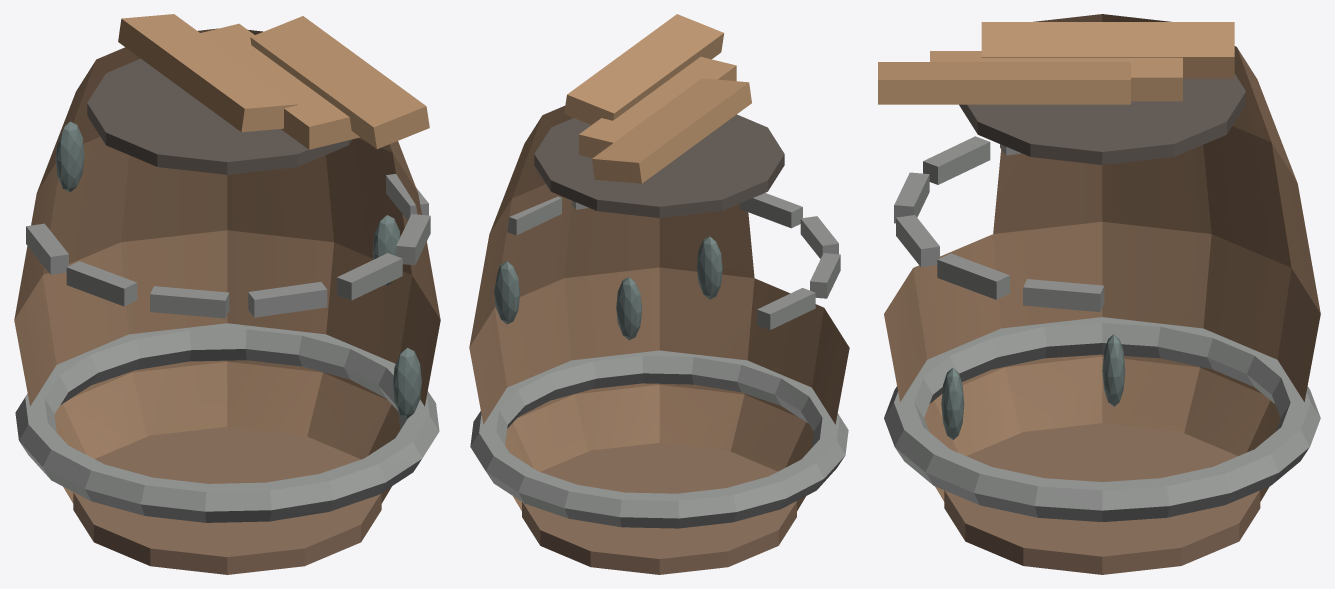
Rendered from barrel_damaged.glb.
3 views of the same model, side by side, from view 1: azimuth 30°, elevation 25°; view 2: azimuth 150°, elevation 25°; view 3: azimuth 270°, elevation 25° (orthographic). The views are drawn at different scales.
Visible parts, largest first — view 1: Barrel_Stave_Body, Iron_Hoop_0, Barrel_Bottom, Dark_Open_Barrel, Loose_Board_2, Loose_Board_0, Loose_Board_1, Broken_Hoop_Segment_3, Broken_Hoop_Segment_4, Broken_Hoop_Segment_5, Broken_Hoop_Segment_2, Water_Damage_2 (+5 smaller); view 2: Barrel_Stave_Body, Iron_Hoop_0, Barrel_Bottom, Dark_Open_Barrel, Loose_Board_0, Loose_Board_2, Loose_Board_1, Broken_Hoop_Segment_6, Broken_Hoop_Segment_3, Water_Damage_2, Water_Damage_1, Water_Damage_0 (+3 smaller); view 3: Barrel_Stave_Body, Iron_Hoop_0, Barrel_Bottom, Dark_Open_Barrel, Loose_Board_2, Loose_Board_0, Loose_Board_1, Broken_Hoop_Segment_0, Broken_Hoop_Segment_1, Broken_Hoop_Segment_4, Broken_Hoop_Segment_2, Water_Damage_2 (+2 smaller).
Boxes of the visible parts, x1,y1,x2,y2 form: Barrel_Stave_Body: (14,28,440,503); Iron_Hoop_0: (15,323,439,522); Barrel_Bottom: (73,426,381,574); Dark_Open_Barrel: (87,58,352,174); Loose_Board_2: (250,16,429,148); Loose_Board_0: (118,14,297,132); Loose_Board_1: (200,23,359,149); Broken_Hoop_Segment_3: (248,282,327,317); Broken_Hoop_Segment_4: (150,286,229,318); Broken_Hoop_Segment_5: (66,261,137,306); Broken_Hoop_Segment_2: (337,253,402,300); Water_Damage_2: (393,347,421,418); Barrel_Stave_Body: (469,106,849,510); Iron_Hoop_0: (470,350,848,528); Barrel_Bottom: (522,442,796,574); Dark_Open_Barrel: (534,114,784,217); Loose_Board_0: (592,78,751,183); Loose_Board_2: (564,14,724,124); Loose_Board_1: (579,56,736,158); Broken_Hoop_Segment_6: (757,288,815,329); Broken_Hoop_Segment_3: (740,193,802,228); Water_Damage_2: (616,277,641,340); Water_Damage_1: (697,236,722,299); Water_Damage_0: (494,261,519,324); Barrel_Stave_Body: (884,14,1320,501); Iron_Hoop_0: (884,317,1320,521); Barrel_Bottom: (944,423,1260,574); Dark_Open_Barrel: (959,74,1245,164); Loose_Board_2: (878,62,1130,104); Loose_Board_0: (981,22,1234,78); Loose_Board_1: (930,51,1182,101); Broken_Hoop_Segment_0: (1023,279,1104,311); Broken_Hoop_Segment_1: (937,253,1009,299); Broken_Hoop_Segment_4: (923,136,990,184); Broken_Hoop_Segment_2: (896,215,939,267); Water_Damage_2: (941,368,964,439).
Bounding box in the file's own units: 0.76 × 0.908 × 0.77.
